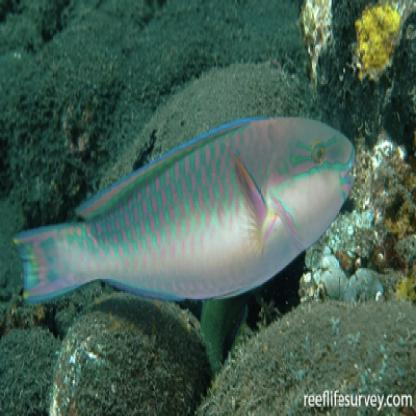parrot: (7, 112, 358, 308)
